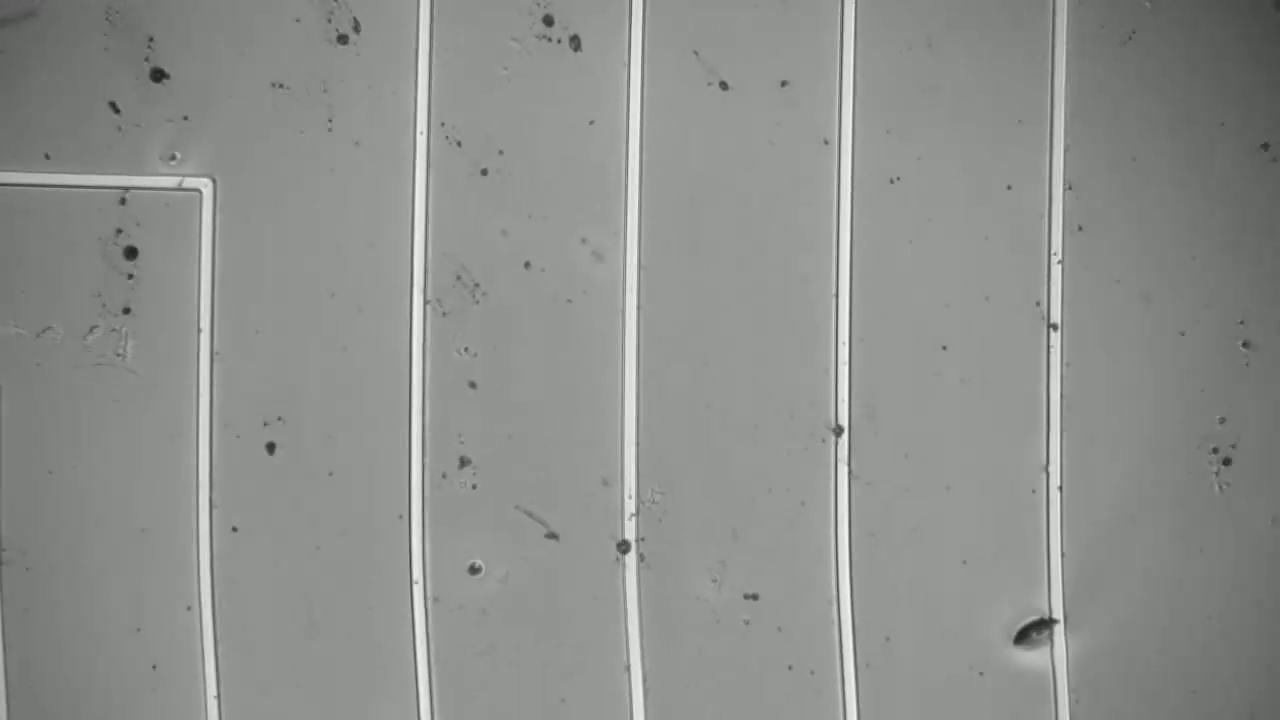stains_enbedded: (611, 534, 643, 562), (827, 419, 856, 442), (1043, 316, 1067, 336)
